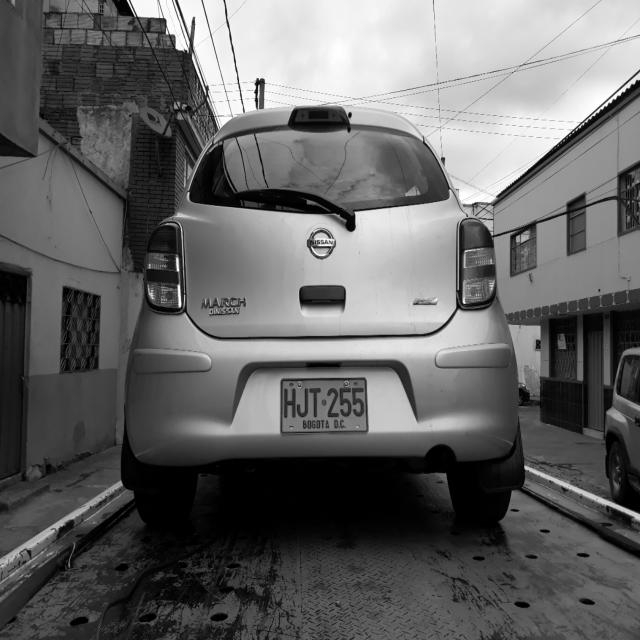plate: (281, 378, 369, 436)
